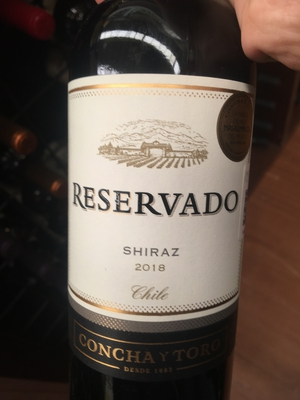reservado shiraz: (66, 20, 252, 400)
